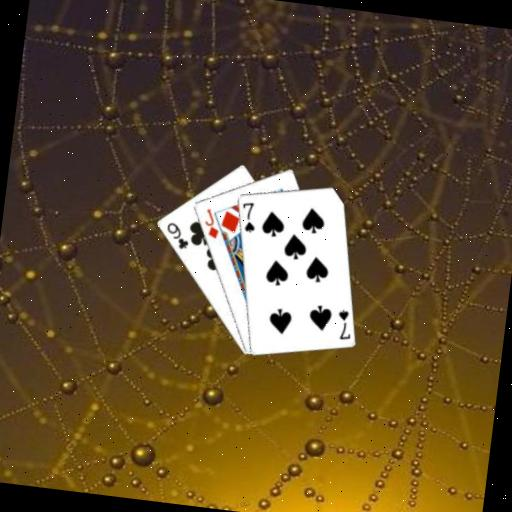7S: (237, 197, 260, 234), (332, 305, 355, 342)
9C: (161, 218, 192, 251)
JD: (200, 205, 223, 241)
